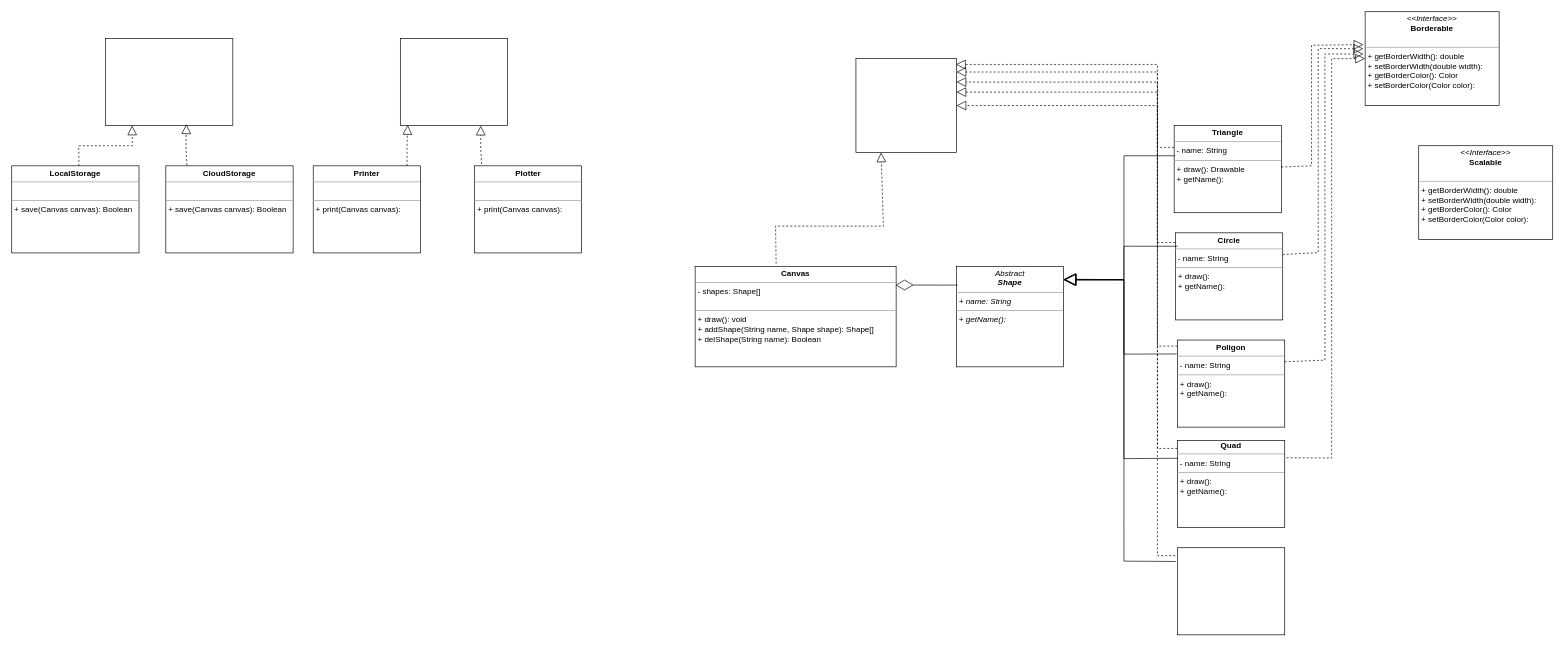
Some shapes in this 1564 by 647 pixel diagram are drawn without their labels. The shapes that lost their labels are listed below. From the top down, each one's centre as x and y in pixels, then its label:
the point at 169,82: << Interface >> Storeable + save(Canvas canvas): Boolean
the point at 454,82: << Interface >> Printable + print(Canvas canvas):
the point at 905,105: <<Interface>> Drawable + draw():
the point at 1231,591: Line - name: String + draw(): + getName():
